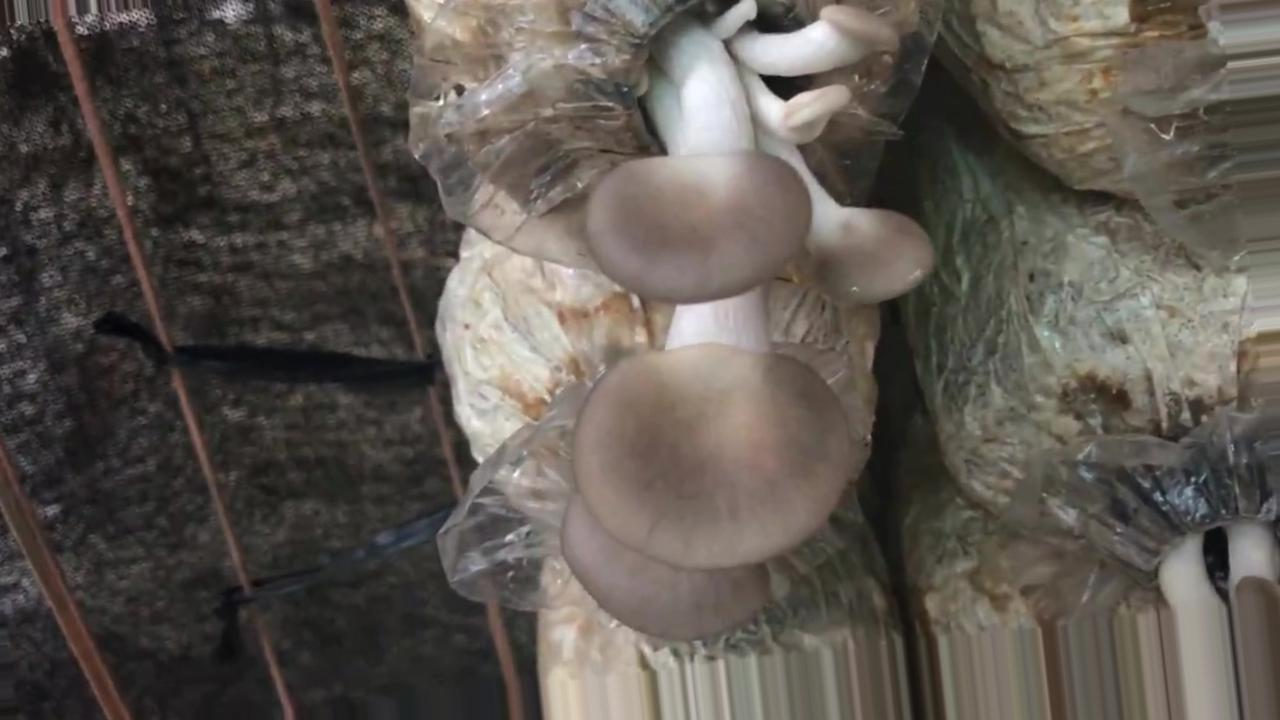nam: (564, 1, 930, 643)
